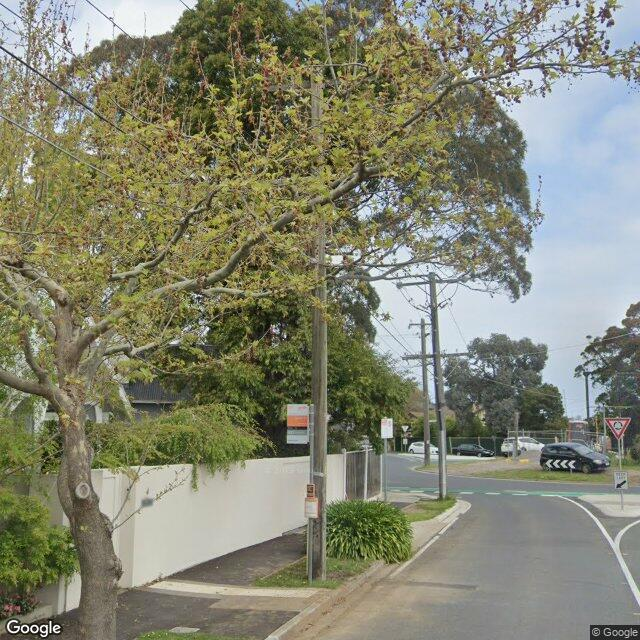crossarm: (402, 352, 469, 360), (396, 279, 458, 287), (409, 324, 431, 326)
timber-pole: (310, 62, 326, 582), (429, 272, 447, 499), (420, 318, 430, 466)
